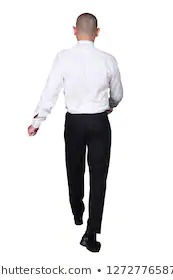F_dress pants: (61, 108, 112, 236)
